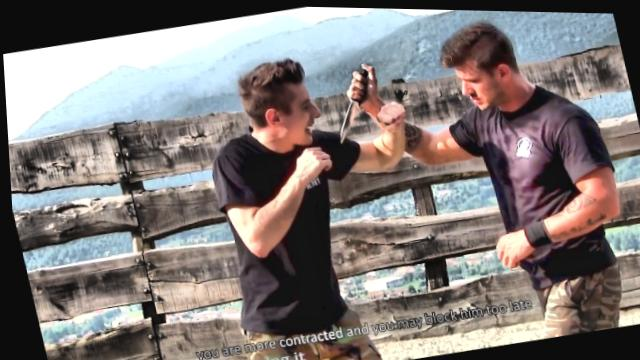knife: (317, 53, 390, 146)
